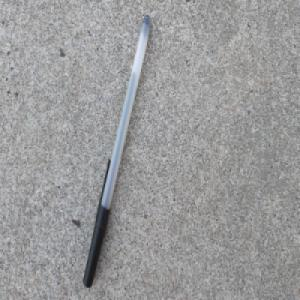Pen: (82, 13, 154, 288)
